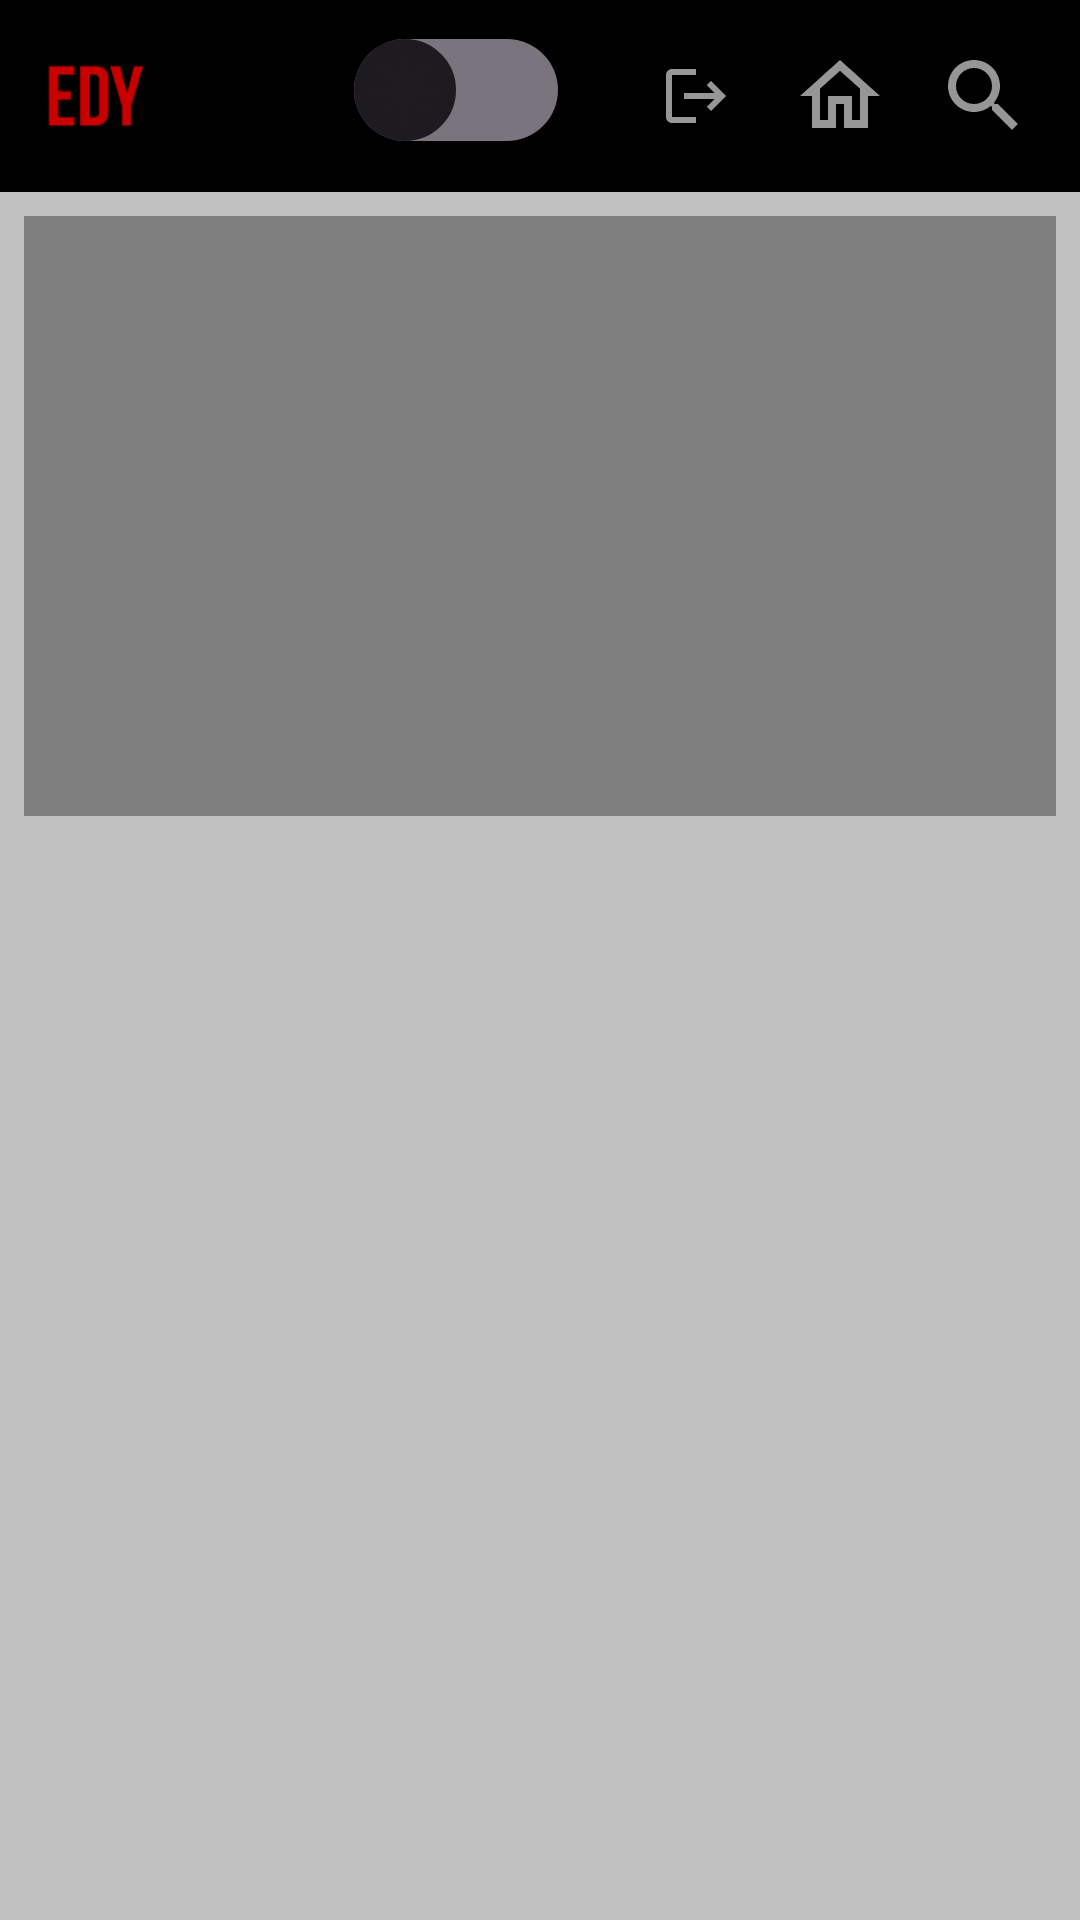

Locate icon controls on the screen. Image size 1080px×1920px, boxes as (x1, y1, x2, y2).
Home Button: (800, 60, 880, 128)
Search button: (948, 60, 1018, 130)
